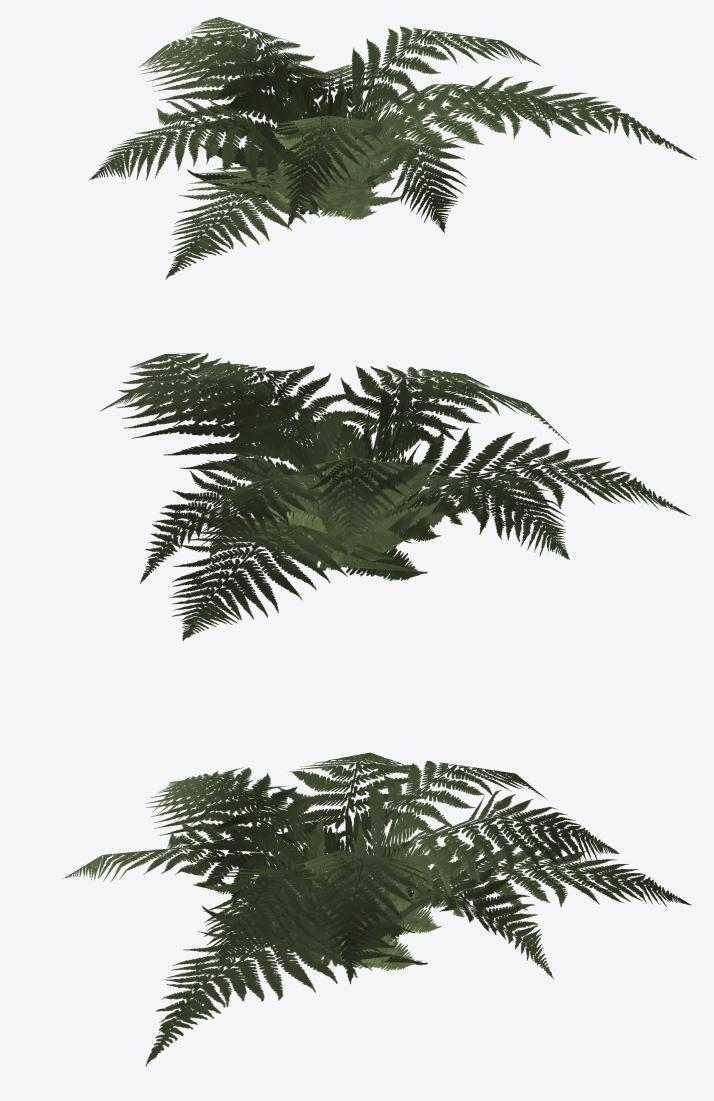
3 renders of one model, top to bottom at view 1: azimuth 30°, elevation 25°; view 2: azimuth 150°, elevation 25°; view 3: azimuth 270°, elevation 25°, orthographic. The views are drawn at different scales.
Parts seen in each view (by area): view 1: Object_2; view 2: Object_2; view 3: Object_2.
Part boxes in pixels (bbox=[...]): Object_2: bbox=[88, 17, 696, 279]; Object_2: bbox=[99, 353, 691, 640]; Object_2: bbox=[63, 752, 691, 1066].
Bounding box in the file's own units: 2.6 × 0.6631 × 2.3.
1 material, 1 textured.
